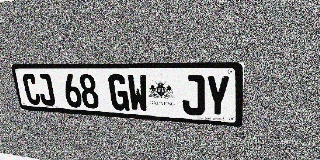6: (62, 74, 83, 108)
8: (78, 74, 100, 109)
C: (21, 73, 41, 105)
G: (107, 74, 130, 111)
J: (181, 75, 205, 116), (35, 74, 56, 106)
W: (127, 74, 149, 112)
Y: (205, 75, 230, 118)
